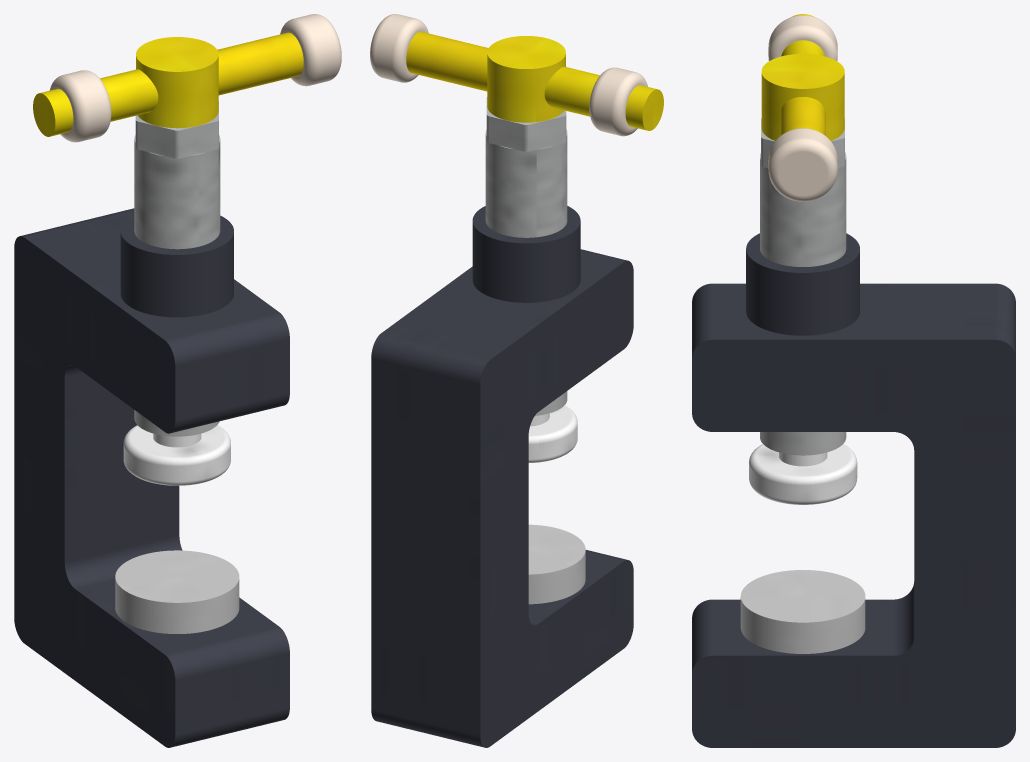
File: Handtools_Clamp__0000.glb
3 renders of one model, left to right at view 1: azimuth 30°, elevation 25°; view 2: azimuth 150°, elevation 25°; view 3: azimuth 270°, elevation 25°, orthographic. The views are drawn at different scales.
Parts seen in each view (by area): view 1: frame::frame_body, frame::anvil_pad, screw::screw_core, screw::handle_bar, screw::handle_hub, screw::handle_caps, pad::swivel_pad, screw::screw_collar; view 2: frame::frame_body, screw::screw_core, screw::handle_bar, screw::handle_hub, screw::handle_caps, frame::anvil_pad, screw::screw_collar, pad::swivel_pad; view 3: frame::frame_body, frame::anvil_pad, screw::screw_core, screw::handle_caps, pad::swivel_pad, screw::handle_hub, screw::handle_bar, screw::screw_collar.
Part boxes in pixels (bbox=[...]): frame::frame_body: bbox=[14, 208, 289, 747]; frame::anvil_pad: bbox=[115, 550, 239, 633]; screw::screw_core: bbox=[134, 135, 220, 436]; screw::handle_bar: bbox=[33, 32, 303, 136]; screw::handle_hub: bbox=[136, 37, 218, 128]; screw::handle_caps: bbox=[49, 14, 341, 142]; pad::swivel_pad: bbox=[123, 425, 230, 485]; screw::screw_collar: bbox=[135, 101, 218, 158]; frame::frame_body: bbox=[371, 206, 633, 747]; screw::screw_core: bbox=[485, 129, 567, 415]; screw::handle_bar: bbox=[406, 31, 663, 130]; screw::handle_hub: bbox=[487, 36, 565, 122]; screw::handle_caps: bbox=[370, 14, 647, 136]; frame::anvil_pad: bbox=[528, 524, 585, 604]; screw::screw_collar: bbox=[486, 97, 566, 151]; pad::swivel_pad: bbox=[528, 405, 577, 462]; frame::frame_body: bbox=[692, 233, 1015, 747]; frame::anvil_pad: bbox=[740, 570, 865, 653]; screw::screw_core: bbox=[760, 152, 846, 455]; screw::handle_caps: bbox=[768, 15, 837, 201]; pad::swivel_pad: bbox=[749, 444, 857, 504]; screw::handle_hub: bbox=[761, 54, 844, 140]; screw::handle_bar: bbox=[780, 14, 825, 135]; screw::screw_collar: bbox=[761, 118, 844, 167].
Size of the model in its own units: 0.0952 by 0.2075 by 0.0935.
6 materials, 5 textured.
